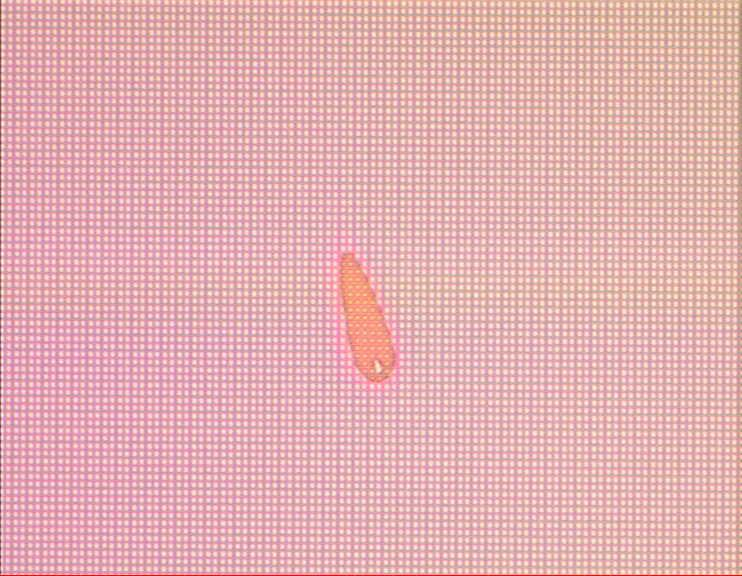BLOCK ETCH: (338, 250, 401, 384)
